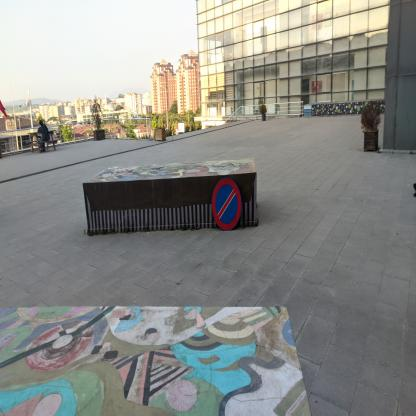No Waiting: (212, 179, 243, 233)
